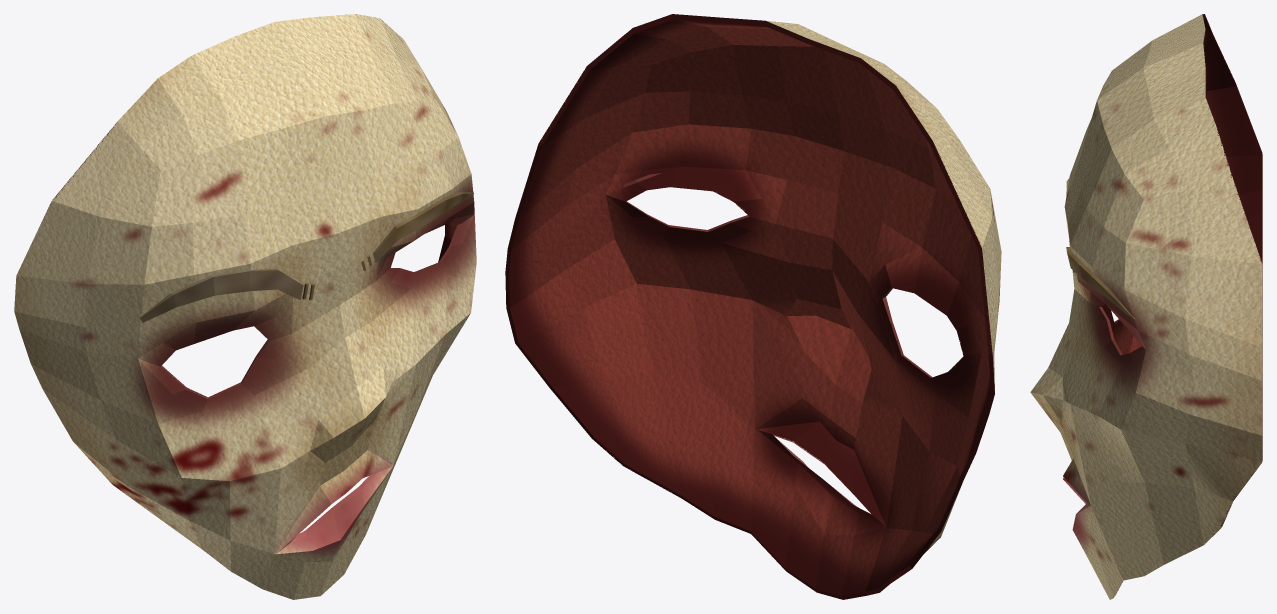
3 renders of one model, left to right at view 1: azimuth 30°, elevation 25°; view 2: azimuth 150°, elevation 25°; view 3: azimuth 270°, elevation 25°, orthographic. The views are drawn at different scales.
Visible parts, largest first — view 1: Face; view 2: Face; view 3: Face.
Boxes of the visible parts, x1,y1,x2,y2 form: Face: (14,14,476,599); Face: (505,14,1001,599); Face: (1030,14,1262,599).
Size of the model in its own units: 0.6835 by 0.8127 by 0.3071.
